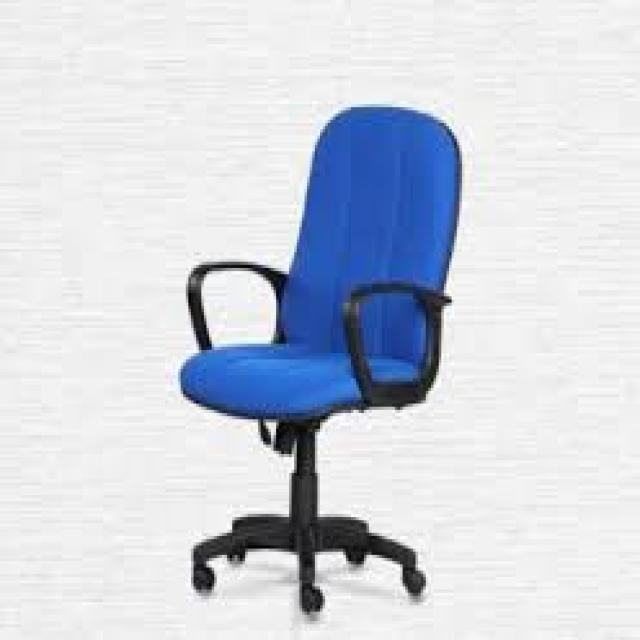chair: (99, 64, 501, 628)
